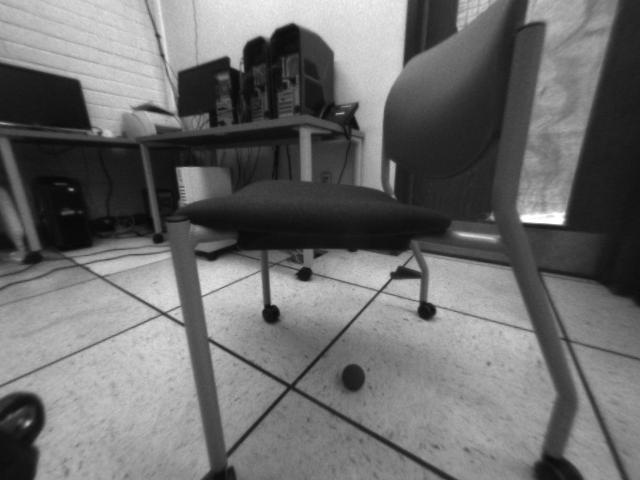dogtoy: (337, 359, 372, 397)
